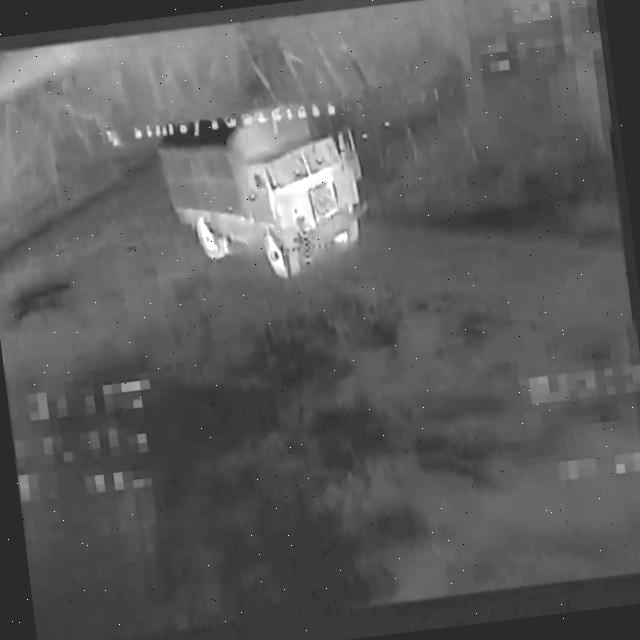Vehicle: (154, 94, 379, 292)
